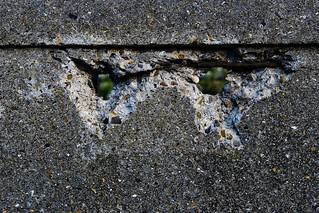Exposed reinforcement: (185, 60, 277, 69)
Spalling: (59, 47, 295, 151)
